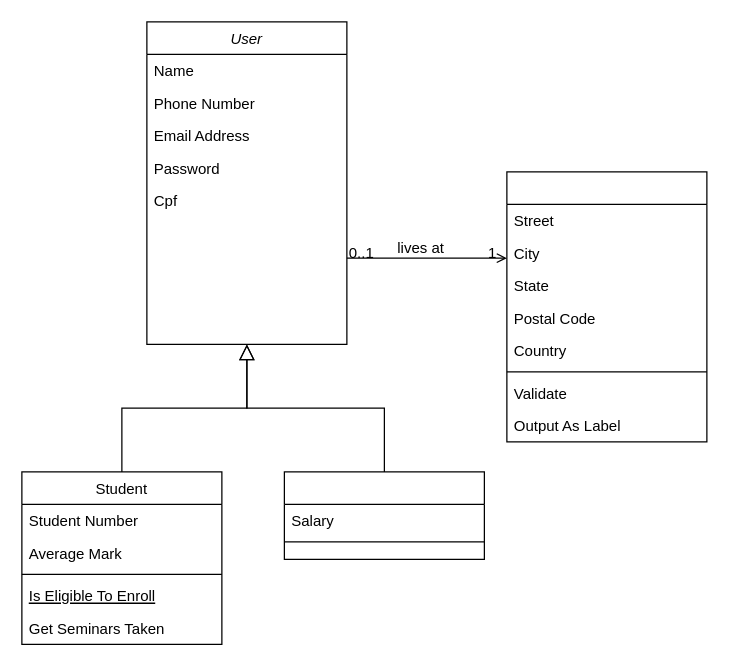
Image size: 729x670. Some labels were removed from this diagram. Here are the shapes that lost their labels. From the top down, the box of each, then its label:
(506, 171, 707, 442): Address
(283, 471, 484, 559): Professor
